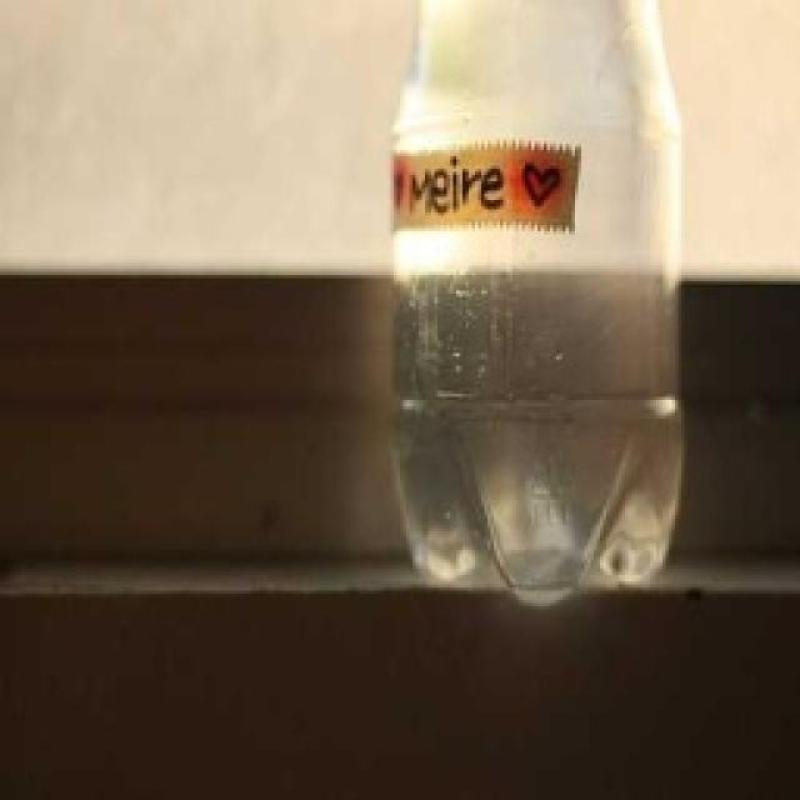botella: (387, 1, 691, 611)
